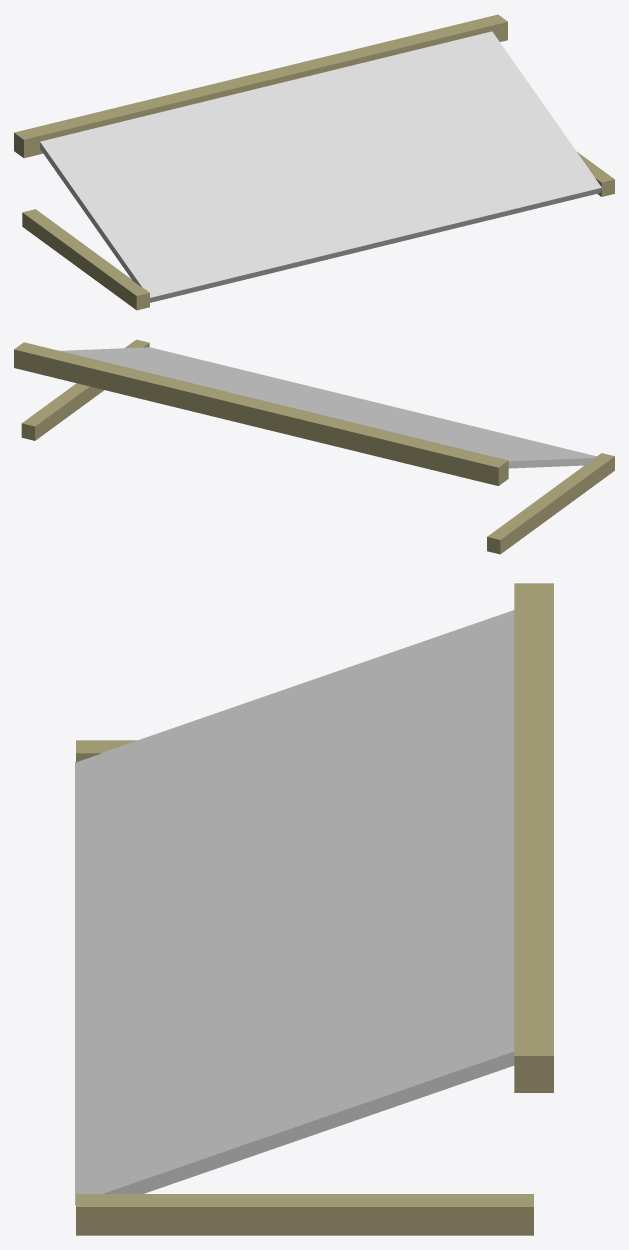
The model's file is Awning_wide.fbx.
The picture shows the model from 3 angles, top to bottom: view 1: azimuth 30°, elevation 25°; view 2: azimuth 150°, elevation 25°; view 3: azimuth 270°, elevation 25°; orthographic projection. The views are drawn at different scales.
Parts seen in each view (by area): view 1: Cube.001, Awning, SideRail.001, SideRail; view 2: Awning, Cube.001, SideRail.001, SideRail; view 3: Cube.001, Awning, SideRail.
Boxes of the visible parts, x1,y1,x2,y2 form: Cube.001: (40, 31, 601, 302); Awning: (14, 14, 507, 158); SideRail.001: (22, 209, 149, 310); SideRail: (577, 152, 614, 196); Awning: (14, 342, 508, 485); Cube.001: (59, 347, 596, 468); SideRail.001: (487, 453, 614, 554); SideRail: (21, 339, 149, 440); Cube.001: (75, 610, 514, 1205); Awning: (514, 583, 553, 1092); SideRail: (76, 1194, 533, 1235).
Bounding box in the file's own units: 377 × 67.89 × 162.
